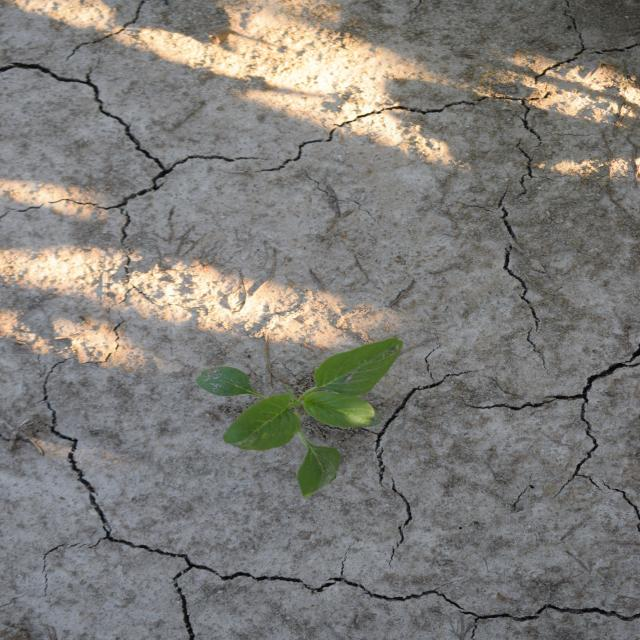PalmerAmaranth: (193, 337, 408, 500)
